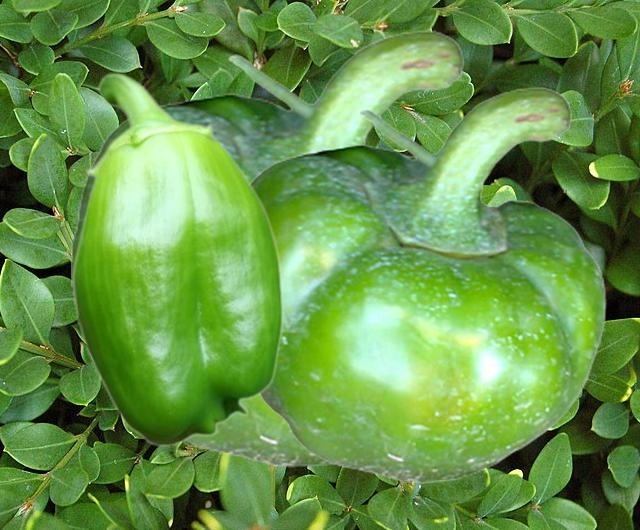bell_pepper: (71, 29, 467, 466), (250, 86, 605, 481), (71, 72, 283, 446)
